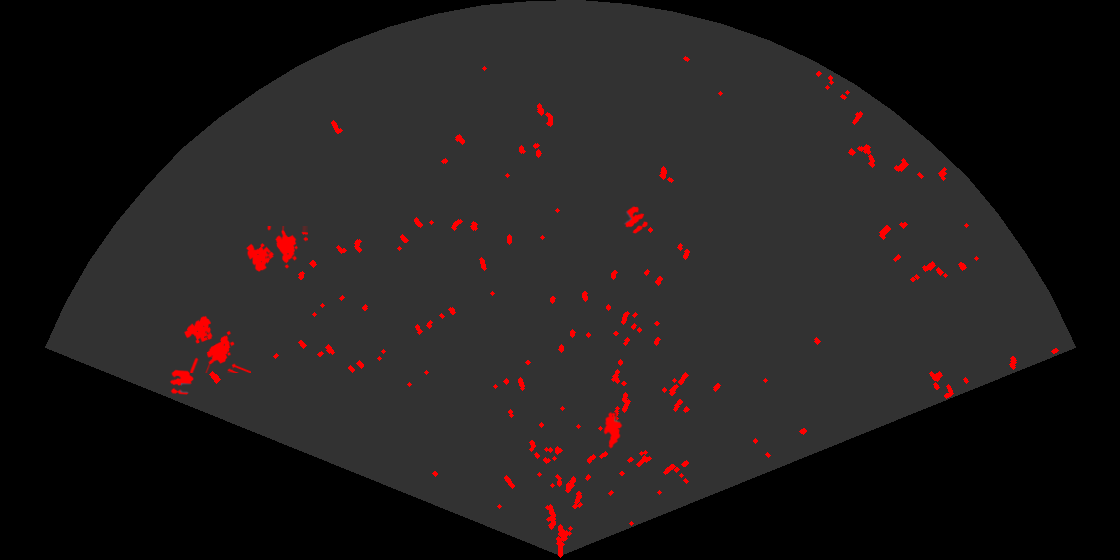AUV: (602, 410, 624, 450)
ball: (623, 205, 649, 235), (168, 368, 195, 396)
cage: (182, 314, 251, 373), (244, 226, 308, 273)
